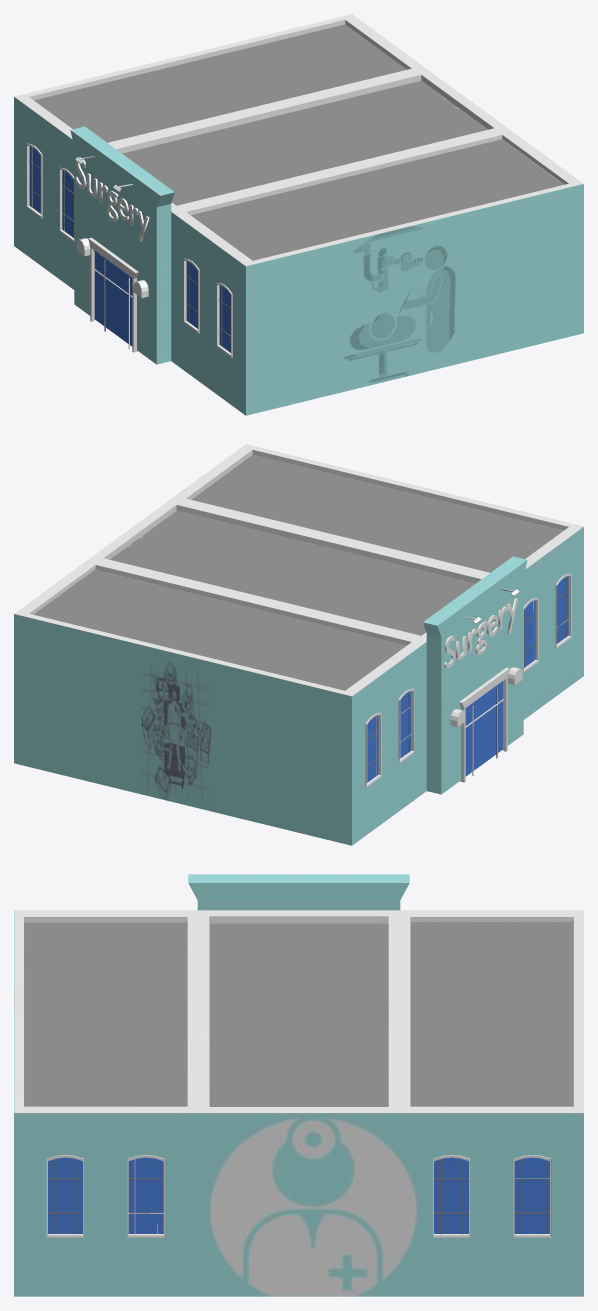
Rendered from surgery.fbx.
3 views of the same model, one above another, from view 1: azimuth 30°, elevation 25°; view 2: azimuth 150°, elevation 25°; view 3: azimuth 270°, elevation 25° (orthographic). The views are drawn at different scales.
Visible parts, largest first — view 1: Cube.035, Cube.038, Text.002; view 2: Cube.035, Cube.038, Text.002; view 3: Cube.035, Cube.038.
Part boxes in pixels (x1,y1,x2,y2): Cube.035: [14, 14, 583, 415]; Cube.038: [26, 143, 232, 357]; Text.002: [76, 157, 149, 241]; Cube.035: [14, 444, 583, 845]; Cube.038: [365, 573, 571, 787]; Text.002: [444, 597, 518, 668]; Cube.035: [14, 874, 583, 1296]; Cube.038: [46, 1154, 551, 1237].
Size of the model in its own units: 633 by 287 by 687.
